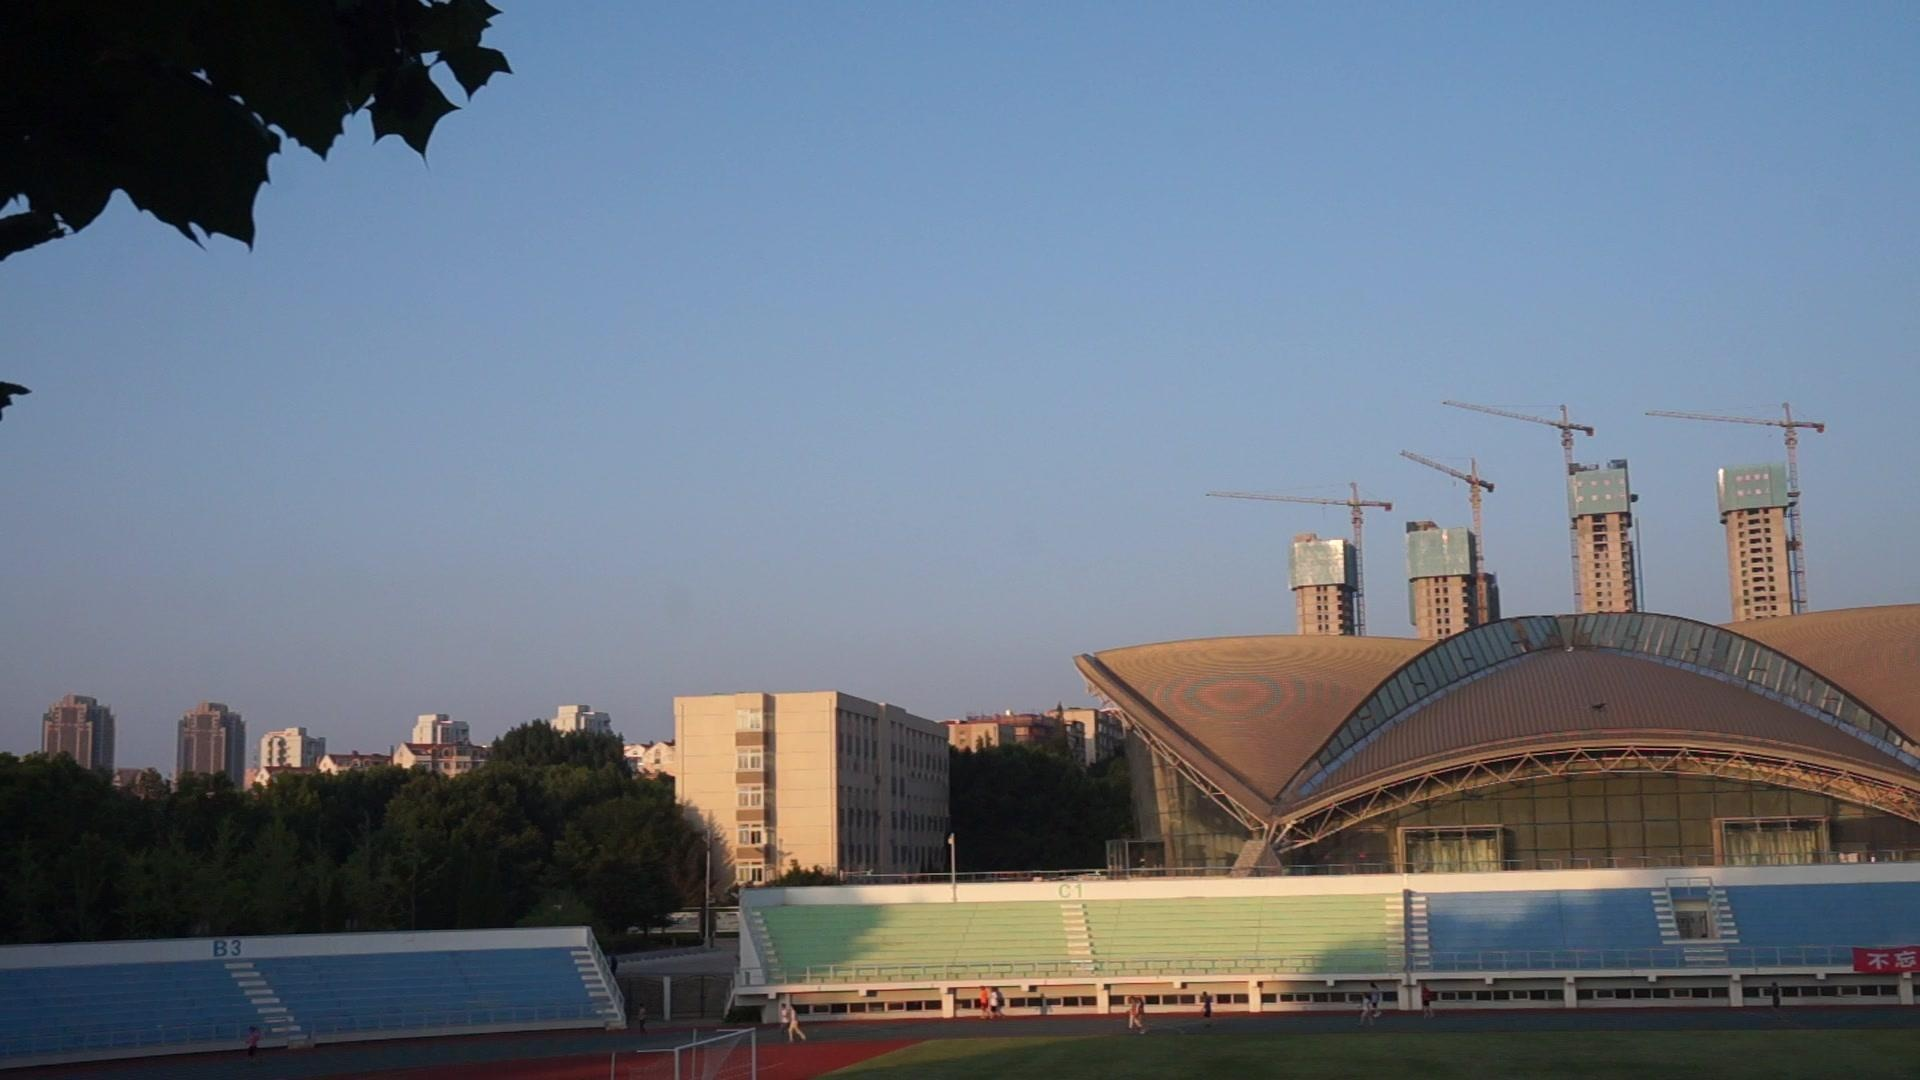UAV: (1592, 703, 1609, 713)
